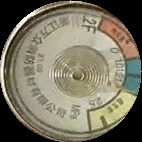green: (121, 58, 142, 98)
needle: (111, 85, 136, 96)
red: (99, 15, 140, 59)
yellow: (87, 89, 137, 135)
